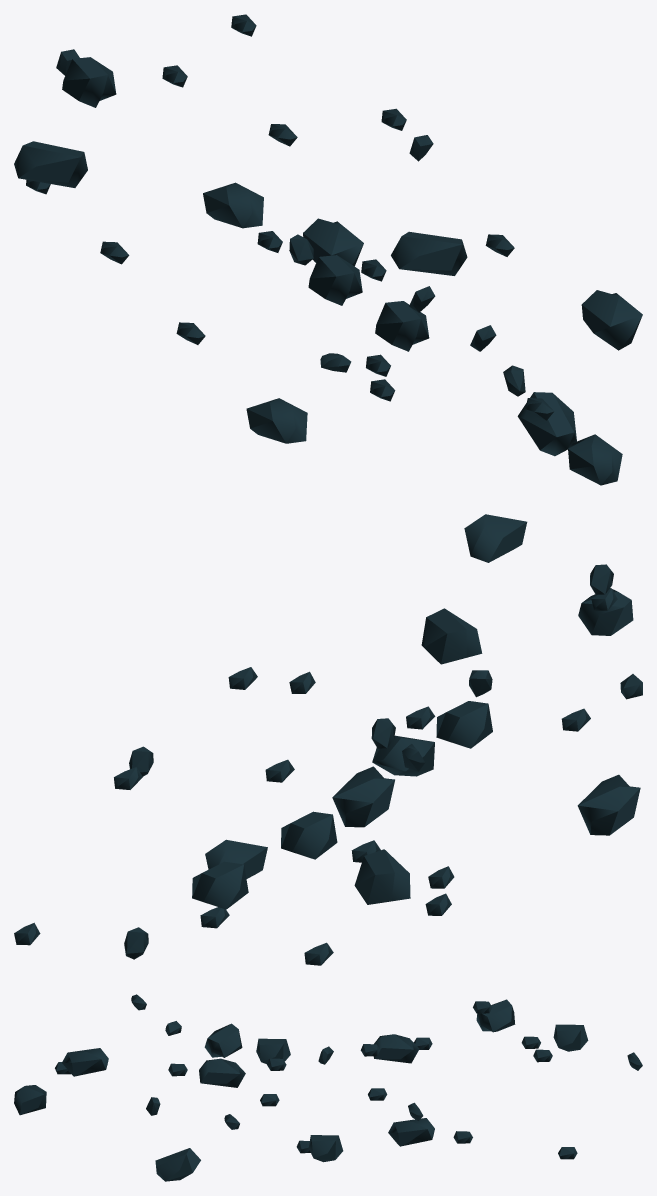
Rendered from AsteroidsFAR.dae.
The picture shows the model from 3 angles, top to bottom: view 1: azimuth 30°, elevation 25°; view 2: azimuth 150°, elevation 25°; view 3: azimuth 270°, elevation 25°; orthographic projection. The views are drawn at different scales.
Parts seen in each view (by area): view 1: polySurface1; view 2: polySurface1; view 3: polySurface1.
Boxes of the visible parts, x1,y1,x2,y2 form: polySurface1: (14, 14, 642, 485); polySurface1: (14, 514, 642, 965); polySurface1: (14, 994, 642, 1181).
Bounding box in the file's own units: 1.38 × 0.8909 × 3.58.
